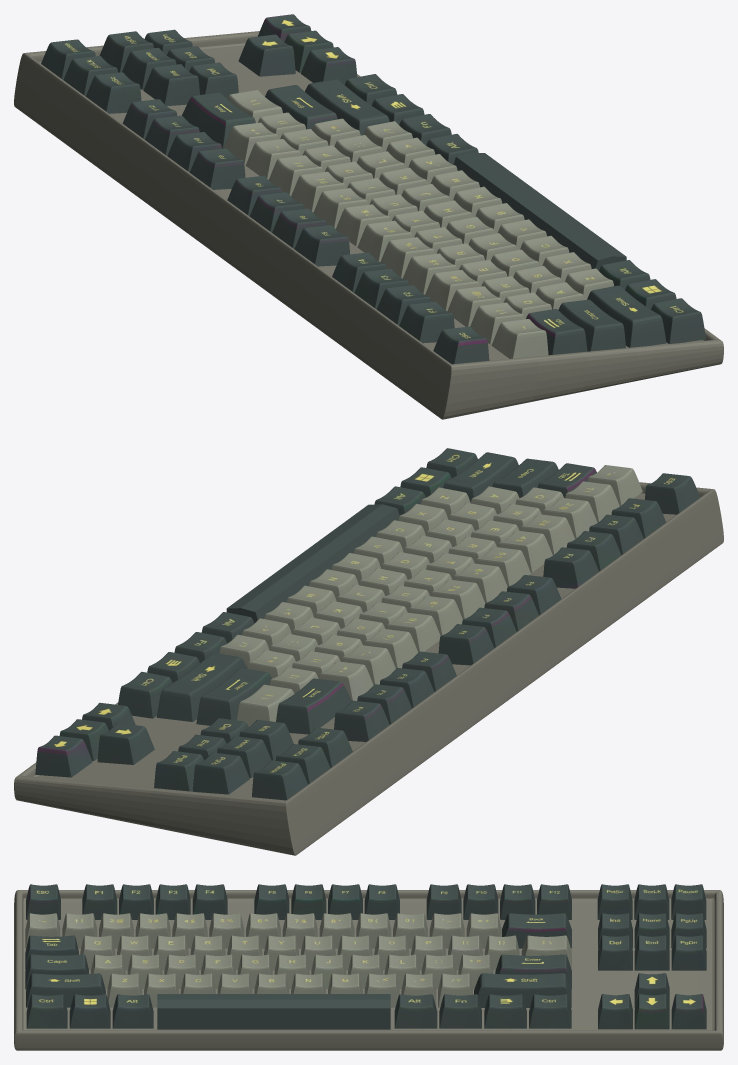
The model's file is tkl_keyboard_yellow_grey_black-transformed.glb.
3 renders of one model, top to bottom at view 1: azimuth 30°, elevation 25°; view 2: azimuth 150°, elevation 25°; view 3: azimuth 270°, elevation 25°, orthographic. The views are drawn at different scales.
Visible parts, largest first — view 1: Keyboard Body; view 2: Keyboard Body; view 3: Keyboard Body.
Boxes of the visible parts, x1,y1,x2,y2 form: Keyboard Body: [14, 14, 723, 419]; Keyboard Body: [14, 448, 723, 855]; Keyboard Body: [14, 884, 723, 1050].
Bounding box in the file's own units: 5.55 × 1.5 × 14.78.
2 materials, 1 textured.
